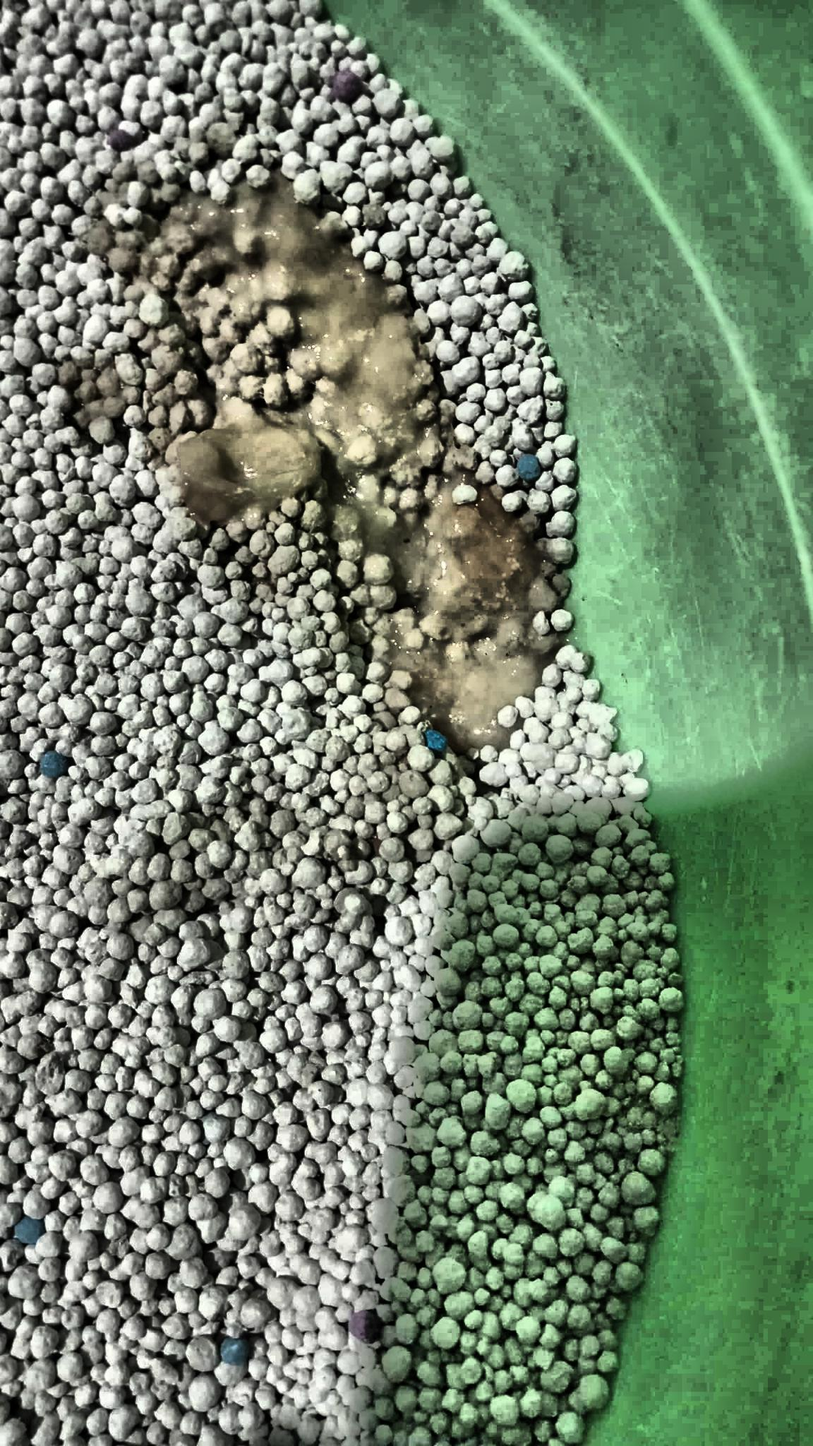poop: (60, 178, 572, 752)
